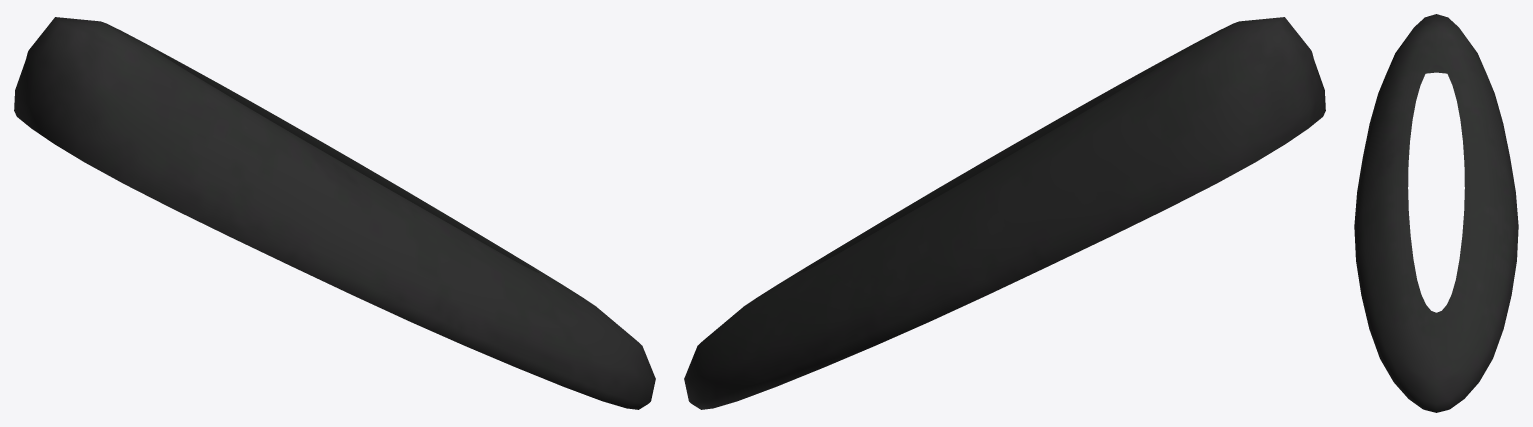
The model's file is wm_rivendell_sword_a01_black_guard.fbx.
The picture shows the model from 3 angles, left to right: view 1: azimuth 30°, elevation 25°; view 2: azimuth 150°, elevation 25°; view 3: azimuth 270°, elevation 25°; orthographic projection. The views are drawn at different scales.
Visible parts, largest first — view 1: wm_rivendell_sword_a01_black_guard; view 2: wm_rivendell_sword_a01_black_guard; view 3: wm_rivendell_sword_a01_black_guard.
Part boxes in pixels (box(x1,y1,x2,y2)): wm_rivendell_sword_a01_black_guard: box(14, 17, 655, 409); wm_rivendell_sword_a01_black_guard: box(684, 17, 1325, 409); wm_rivendell_sword_a01_black_guard: box(1354, 14, 1518, 412).
Bounding box in the file's own units: 0.0551 × 0.0253 × 0.0441.
Materials: 1 (1 with a texture image).
